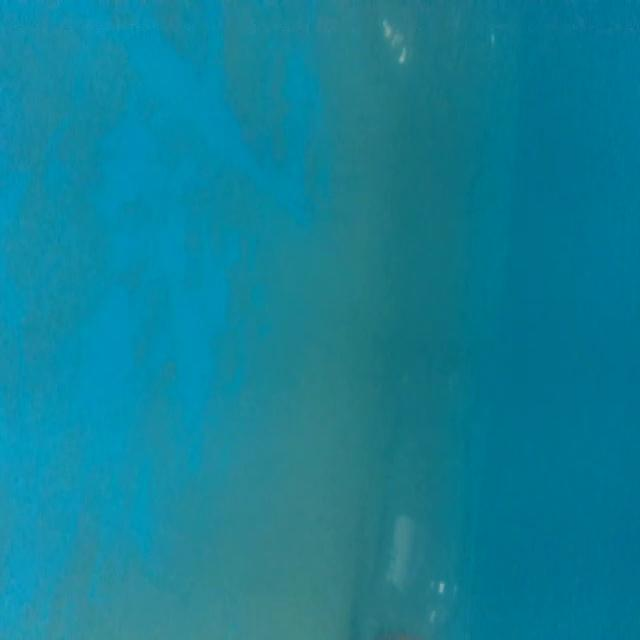plastic bottle: (387, 376, 487, 637)
